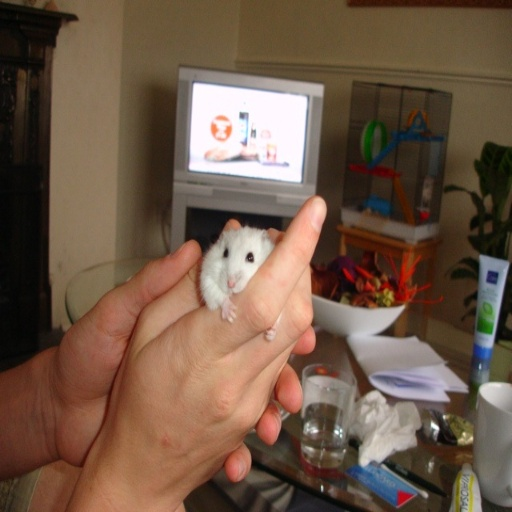hand: (55, 236, 316, 485)
